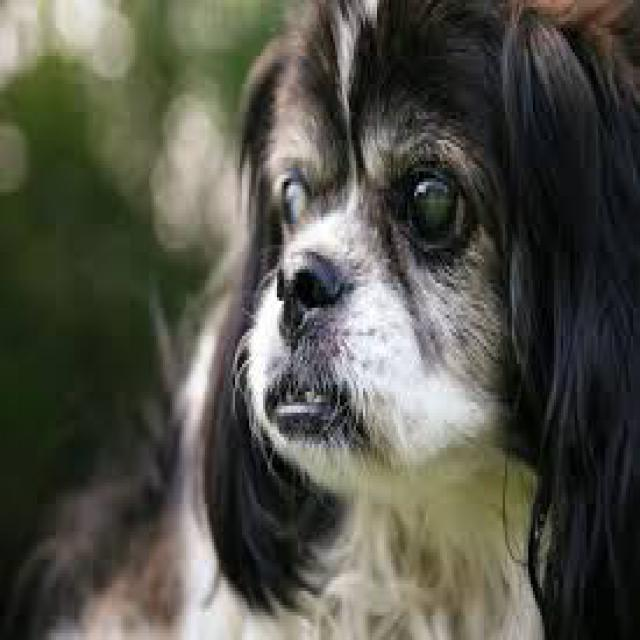eye: (396, 164, 480, 259), (278, 170, 312, 233)
